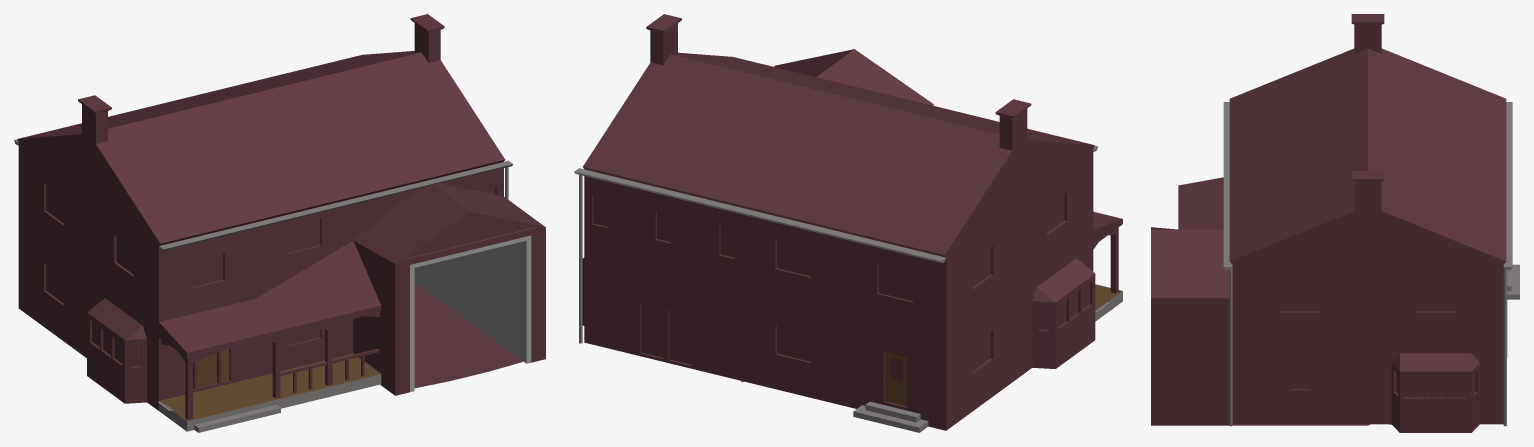
The model's file is Safehouse.fbx.
3 views of the same model, side by side, from view 1: azimuth 30°, elevation 25°; view 2: azimuth 150°, elevation 25°; view 3: azimuth 270°, elevation 25° (orthographic). The views are drawn at different scales.
Parts seen in each view (by area): view 1: polySurface1, polySurface2; view 2: polySurface1, polySurface2; view 3: polySurface1, polySurface2.
Boxes of the visible parts, x1,y1,x2,y2 form: polySurface1: (17,14,545,432); polySurface2: (14,139,512,419); polySurface1: (582,14,1122,430); polySurface2: (574,145,1118,432); polySurface1: (1151,14,1506,432); polySurface2: (1223,102,1519,426).
Size of the model in its own units: 1568 by 1008 by 1360.
